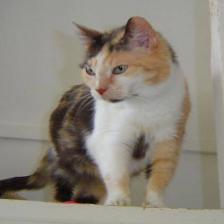cat: (70, 14, 181, 105)
